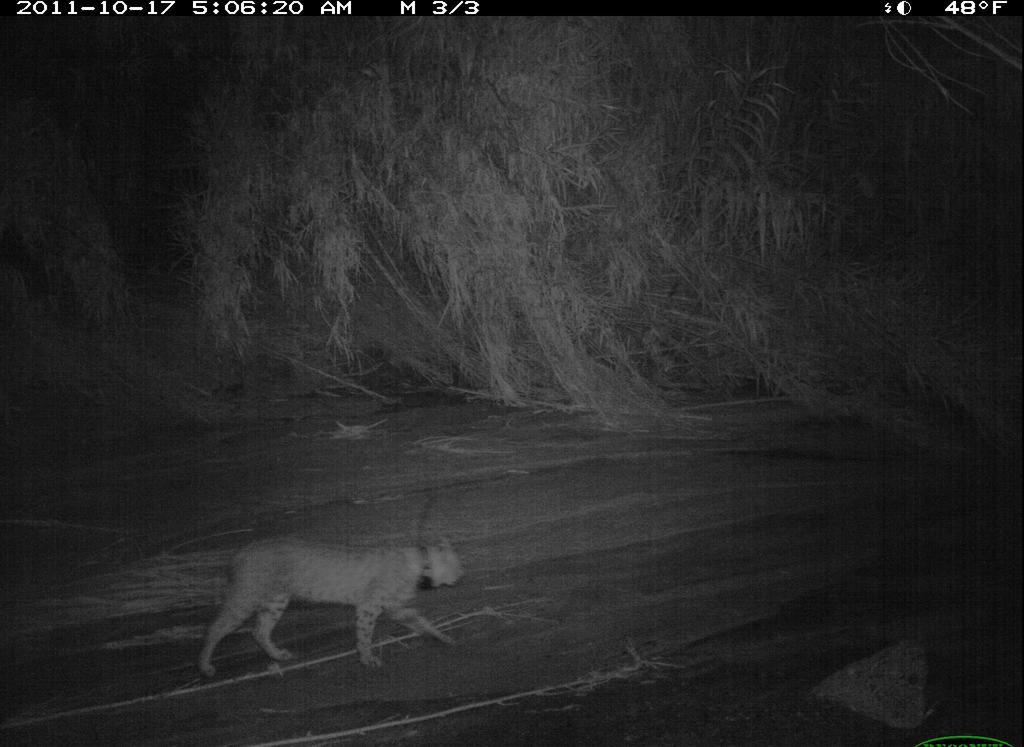bobcat: (184, 525, 478, 689)
